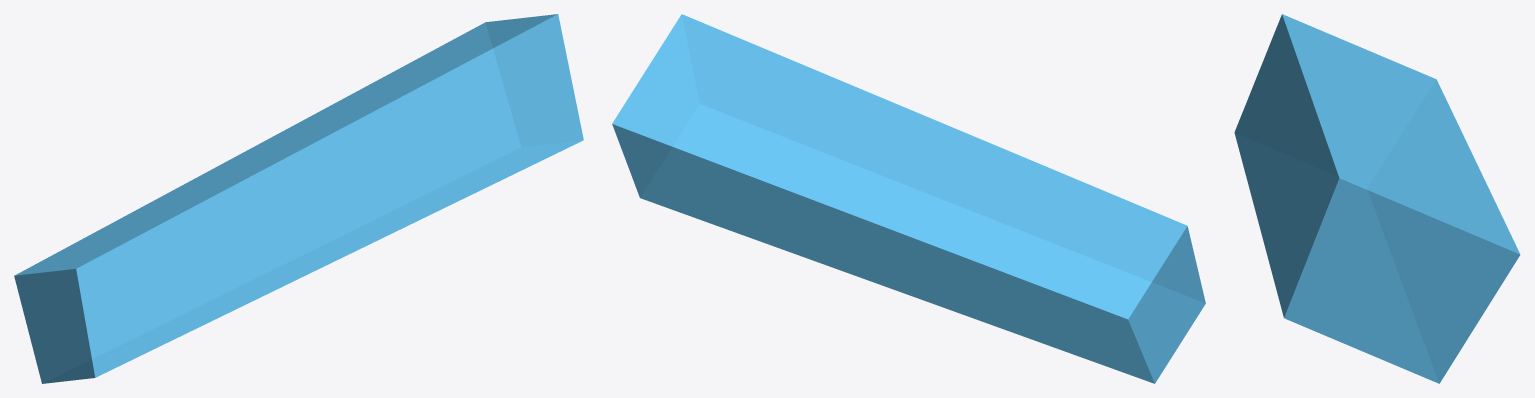
The model's file is Event_421364160_HErechit_23.fbx.
The picture shows the model from 3 angles, left to right: view 1: azimuth 30°, elevation 25°; view 2: azimuth 150°, elevation 25°; view 3: azimuth 270°, elevation 25°; orthographic projection. The views are drawn at different scales.
Parts seen in each view (by area): view 1: Model; view 2: Model; view 3: Model.
Part boxes in pixels (x1,y1,x2,y2): Model: [14, 14, 583, 383]; Model: [612, 14, 1205, 383]; Model: [1234, 14, 1520, 383].
Bounding box in the file's own units: 1.75 × 0.8405 × 0.6865.
